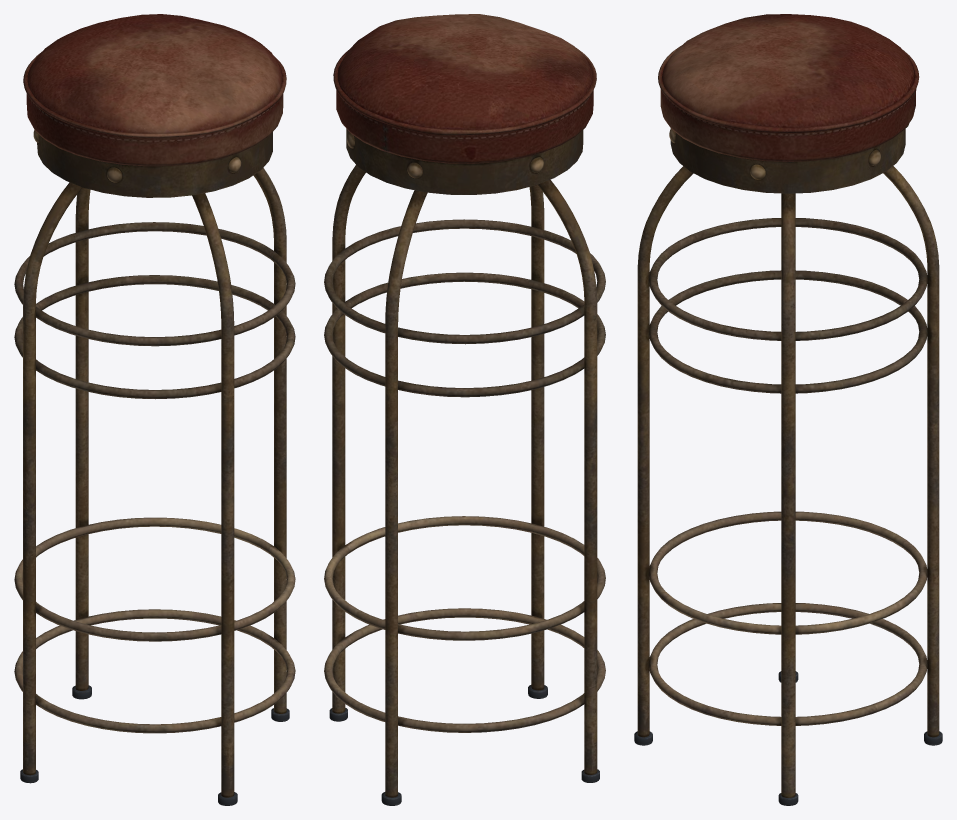
The model's file is metal_stool_01.glb.
3 views of the same model, side by side, from view 1: azimuth 30°, elevation 25°; view 2: azimuth 150°, elevation 25°; view 3: azimuth 270°, elevation 25° (orthographic).
Visible parts, largest first — view 1: metal_stool_01; view 2: metal_stool_01; view 3: metal_stool_01.
Part boxes in pixels (x1,y1,x2,y2): metal_stool_01: [14, 14, 295, 805]; metal_stool_01: [324, 14, 605, 805]; metal_stool_01: [634, 14, 942, 805].
Bounding box in the file's own units: 0.352 × 0.8828 × 0.3546.
1 material, 1 textured.
